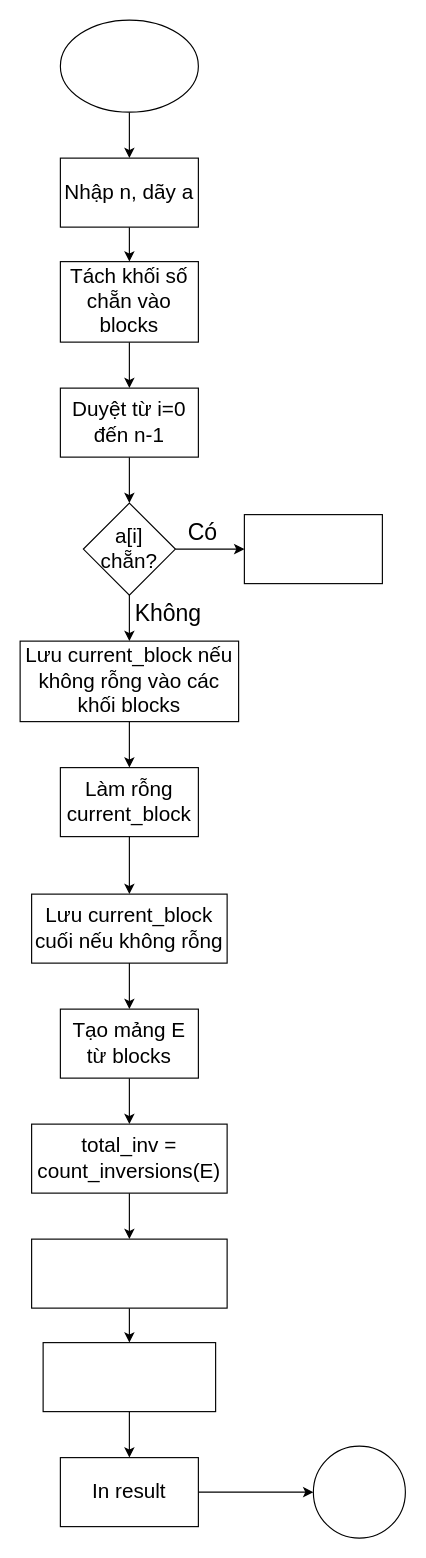
Image size: 426x1558. Some labels were removed from this diagram. Each missing label, with the box of its shape:
Bắt đầu: (59, 19, 198, 112)
Kết thúc: (312, 1445, 405, 1538)
result = total_inv - same_block_inv: (42, 1341, 216, 1412)
same_block_inv = 0: (30, 1238, 227, 1308)
Thêm vào current_block: (243, 513, 382, 584)
